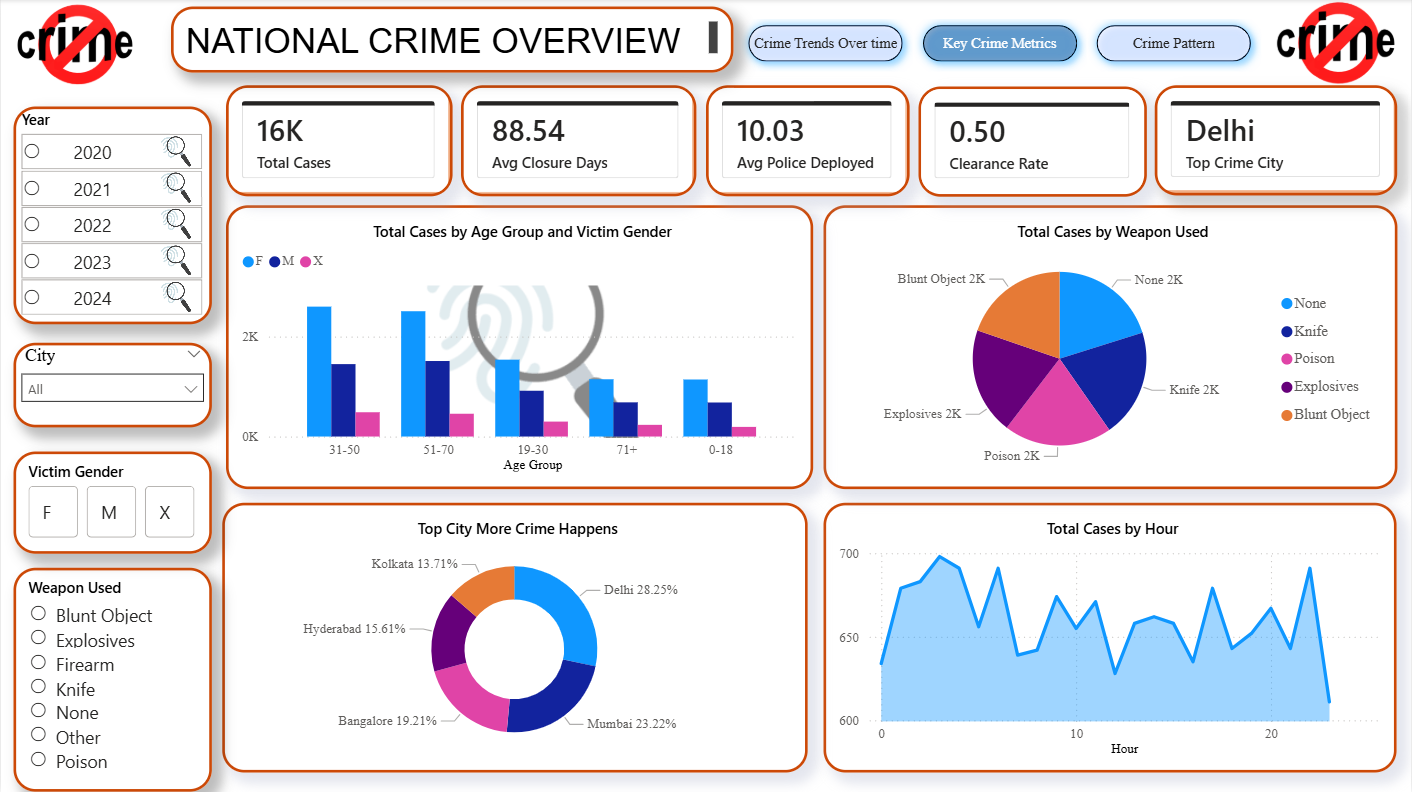

The dashboard page shown, as its layout file describes it:
{"tool":"powerbi","page":{"name":"Key Crime Metrics","canvas":[1280,720],"ordinal":1},"visuals":[{"type":"stackedAreaChart","fields":{"Category":["crime_dataset_india.Day of Week","crime_dataset_india.Hour"],"Y":["crime_dataset_india.Total Cases"]},"box":[746.2,457.5,520,245],"z":0},{"type":"pieChart","fields":{"Category":["crime_dataset_india.Weapon Used"],"Y":["crime_dataset_india.Total Cases"]},"box":[746.3,187.1,520.6,257.5],"z":1000},{"type":"clusteredColumnChart","fields":{"Category":["crime_dataset_india.Age Group"],"Series":["crime_dataset_india.Victim Gender"],"Y":["crime_dataset_india.Total Cases"]},"box":[204.2,187.1,533.1,257.5],"z":2000},{"type":"donutChart","title":"Top City More Crime Happens","fields":{"Category":["crime_dataset_india.City"],"Y":["crime_dataset_india.Total Cases"]},"box":[201.2,457.5,531.2,245],"z":3000},{"type":"image","box":[0,2.4,135.4,76.8],"z":4000},{"type":"pageNavigator","box":[669.5,14.6,474.4,51.2],"z":5000},{"type":"image","box":[1143.9,0,135.4,78],"z":6000},{"type":"listSlicer","fields":{"Values":["crime_dataset_india.Date of Occurrence.Variation.Date Hierarchy.Year"]},"box":[11.3,97.5,180.3,197.4],"z":7000},{"type":"slicer","fields":{"Values":["crime_dataset_india.City"]},"box":[11.3,311.9,180.3,77.1],"z":8000},{"type":"advancedSlicerVisual","fields":{"Values":["crime_dataset_india.Victim Gender"]},"box":[11.3,410.6,180.3,93],"z":9000},{"type":"listSlicer","fields":{"Values":["crime_dataset_india.Weapon Used"]},"box":[11.3,516.1,180.3,203],"z":10000},{"type":"cardVisual","title":"Total Cases","fields":{"Data":["crime_dataset_india.Total Cases"]},"box":[204.2,78.3,205.3,100.9],"z":11000},{"type":"cardVisual","fields":{"Data":["crime_dataset_india.Avg Closure Days"]},"box":[417.4,78.3,213.2,100.9],"z":12000},{"type":"cardVisual","fields":{"Data":["crime_dataset_india.Avg Police Deployed"]},"box":[639.7,78.3,184.9,100.9],"z":13000},{"type":"cardVisual","fields":{"Data":["crime_dataset_india.Clearance Rate"]},"box":[832.5,79.4,207.6,99.8],"z":14000},{"type":"cardVisual","fields":{"Data":["crime_dataset_india.Top Crime City"]},"box":[1046.9,78.3,220,99.8],"z":15000},{"type":"textbox","box":[154.3,6.8,510.4,60.1],"z":16000}]}

Visuals, with their boxes in screenshot pixels (x1, y1, x2, y2), scaled from the page's 1280x720 canvas onto the 1412x792 screenshot:
stackedAreaChart - crime_dataset_india.Day of Week x crime_dataset_india.Hour: Rect(823, 503, 1397, 773)
pieChart - crime_dataset_india.Weapon Used x crime_dataset_india.Total Cases: Rect(823, 206, 1398, 489)
clusteredColumnChart - crime_dataset_india.Age Group x crime_dataset_india.Victim Gender: Rect(225, 206, 813, 489)
"Top City More Crime Happens" donutChart: Rect(222, 503, 808, 773)
image: Rect(0, 3, 149, 87)
pageNavigator: Rect(739, 16, 1262, 72)
image: Rect(1262, 0, 1411, 86)
listSlicer - crime_dataset_india.Date of Occurrence.Variation.Date Hierarchy.Year: Rect(12, 107, 211, 324)
slicer - crime_dataset_india.City: Rect(12, 343, 211, 428)
advancedSlicerVisual - crime_dataset_india.Victim Gender: Rect(12, 452, 211, 554)
listSlicer - crime_dataset_india.Weapon Used: Rect(12, 568, 211, 791)
"Total Cases" cardVisual: Rect(225, 86, 452, 197)
cardVisual - crime_dataset_india.Avg Closure Days: Rect(460, 86, 696, 197)
cardVisual - crime_dataset_india.Avg Police Deployed: Rect(706, 86, 910, 197)
cardVisual - crime_dataset_india.Clearance Rate: Rect(918, 87, 1147, 197)
cardVisual - crime_dataset_india.Top Crime City: Rect(1155, 86, 1398, 196)
textbox: Rect(170, 7, 733, 74)
